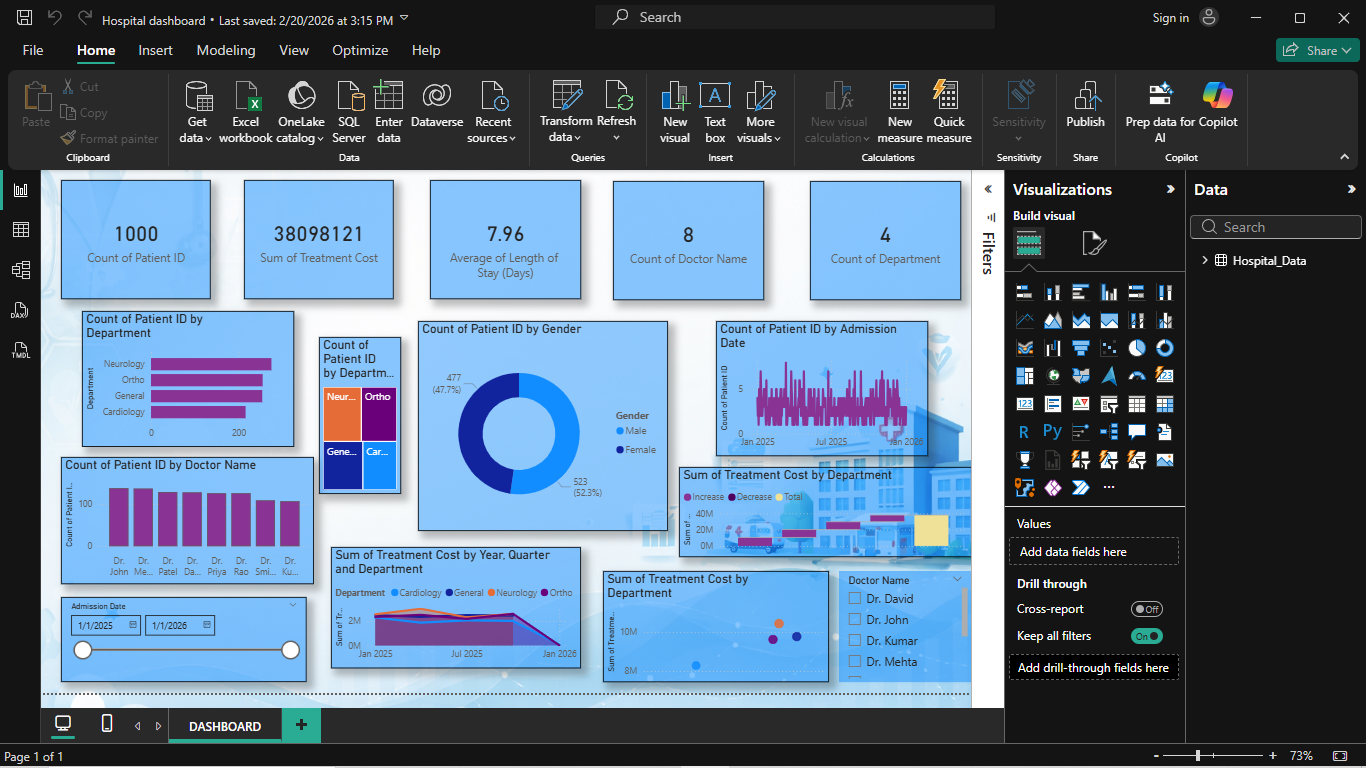

Layout of this report page (visuals, bound fields, positions):
{"tool":"powerbi","page":{"name":"DASHBOARD","canvas":[1280,720],"ordinal":0},"visuals":[{"type":"card","fields":{"Values":["Hospital_Data.Patient ID"]},"box":[27.5,13.8,206.5,163.8],"z":0},{"type":"card","fields":{"Values":["Hospital_Data.Treatment Cost"]},"box":[279.4,13.8,206.5,163.8],"z":1000},{"type":"card","fields":{"Values":["Hospital_Data.Length of Stay (Days)"]},"box":[535.4,13.8,207.8,163.8],"z":2000},{"type":"card","fields":{"Values":["Hospital_Data.Doctor Name"]},"box":[787.3,15.1,207.8,163.8],"z":3000},{"type":"card","fields":{"Values":["Hospital_Data.Department"]},"box":[1058.4,15.1,207.8,163.8],"z":4000},{"type":"donutChart","fields":{"Category":["Hospital_Data.Gender"],"Y":["Hospital_Data.Patient ID"]},"box":[518.9,207.8,344.1,289],"z":5000},{"type":"clusteredBarChart","fields":{"Category":["Hospital_Data.Department"],"Y":["Hospital_Data.Patient ID"]},"box":[56.4,194.1,291.8,187.2],"z":6000},{"type":"lineChart","fields":{"Category":["Hospital_Data.Admission Date"],"Y":["Hospital_Data.Patient ID"]},"box":[929.2,208.3,291.7,186.1],"z":7000},{"type":"clusteredColumnChart","fields":{"Category":["Hospital_Data.Doctor Name"],"Y":["Hospital_Data.Patient ID"]},"box":[27.5,395,348.2,174.8],"z":8000},{"type":"treemap","fields":{"Group":["Hospital_Data.Department"],"Values":["Hospital_Data.Patient ID"]},"box":[382.6,229.8,112.9,216.1],"z":9000},{"type":"areaChart","fields":{"Y":["Hospital_Data.Treatment Cost"],"Series":["Hospital_Data.Department"],"Category":["Hospital_Data.Admission Date.Variation.Date Hierarchy.Year","Hospital_Data.Admission Date.Variation.Date Hierarchy.Quarter"]},"box":[398.6,519.4,344.4,166.7],"z":10000},{"type":"scatterChart","title":" Sum of Treatment Cost by Department","fields":{"X":["Hospital_Data.Length of Stay (Days)"],"Y":["Hospital_Data.Treatment Cost"],"Series":["Hospital_Data.Department"],"Size":["Hospital_Data.Treatment Cost"]},"box":[773.6,551.4,311.1,152.8],"z":11000},{"type":"slicer","fields":{"Values":["Hospital_Data.Admission Date"]},"box":[27.8,587.5,337.5,116.7],"z":12000},{"type":"waterfallChart","fields":{"Category":["Hospital_Data.Department"],"Y":["Hospital_Data.Treatment Cost"]},"box":[877.8,408.3,402.8,123.6],"z":13000},{"type":"slicer","fields":{"Values":["Hospital_Data.Doctor Name"]},"box":[1098.6,551.4,181.9,152.8],"z":14000}]}

Visuals, with their boxes on the page's 1280x720 design canvas (x1, y1, x2, y2). These are canvas units, not pixel positions in the 1366x768 screenshot, which may show the page scaled, cropped or inside an application window:
card - Hospital_Data.Patient ID: [28, 14, 234, 178]
card - Hospital_Data.Treatment Cost: [279, 14, 486, 178]
card - Hospital_Data.Length of Stay (Days): [535, 14, 743, 178]
card - Hospital_Data.Doctor Name: [787, 15, 995, 179]
card - Hospital_Data.Department: [1058, 15, 1266, 179]
donutChart - Hospital_Data.Gender x Hospital_Data.Patient ID: [519, 208, 863, 497]
clusteredBarChart - Hospital_Data.Department x Hospital_Data.Patient ID: [56, 194, 348, 381]
lineChart - Hospital_Data.Admission Date x Hospital_Data.Patient ID: [929, 208, 1221, 394]
clusteredColumnChart - Hospital_Data.Doctor Name x Hospital_Data.Patient ID: [28, 395, 376, 570]
treemap - Hospital_Data.Department x Hospital_Data.Patient ID: [383, 230, 496, 446]
areaChart - Hospital_Data.Treatment Cost x Hospital_Data.Department: [399, 519, 743, 686]
" Sum of Treatment Cost by Department" scatterChart: [774, 551, 1085, 704]
slicer - Hospital_Data.Admission Date: [28, 588, 365, 704]
waterfallChart - Hospital_Data.Department x Hospital_Data.Treatment Cost: [878, 408, 1281, 532]
slicer - Hospital_Data.Doctor Name: [1099, 551, 1280, 704]
